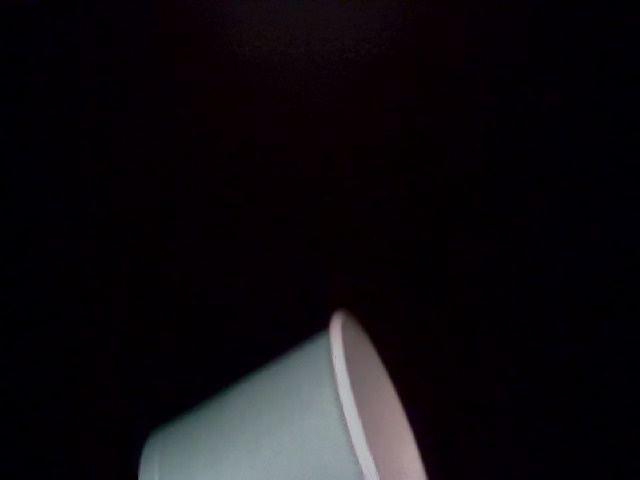KHSLJ: (23, 260, 496, 480)
